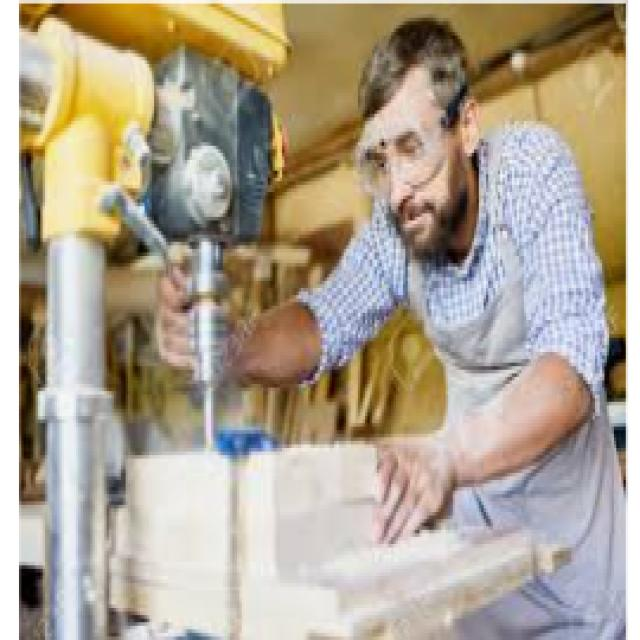glasses: (357, 117, 465, 195)
